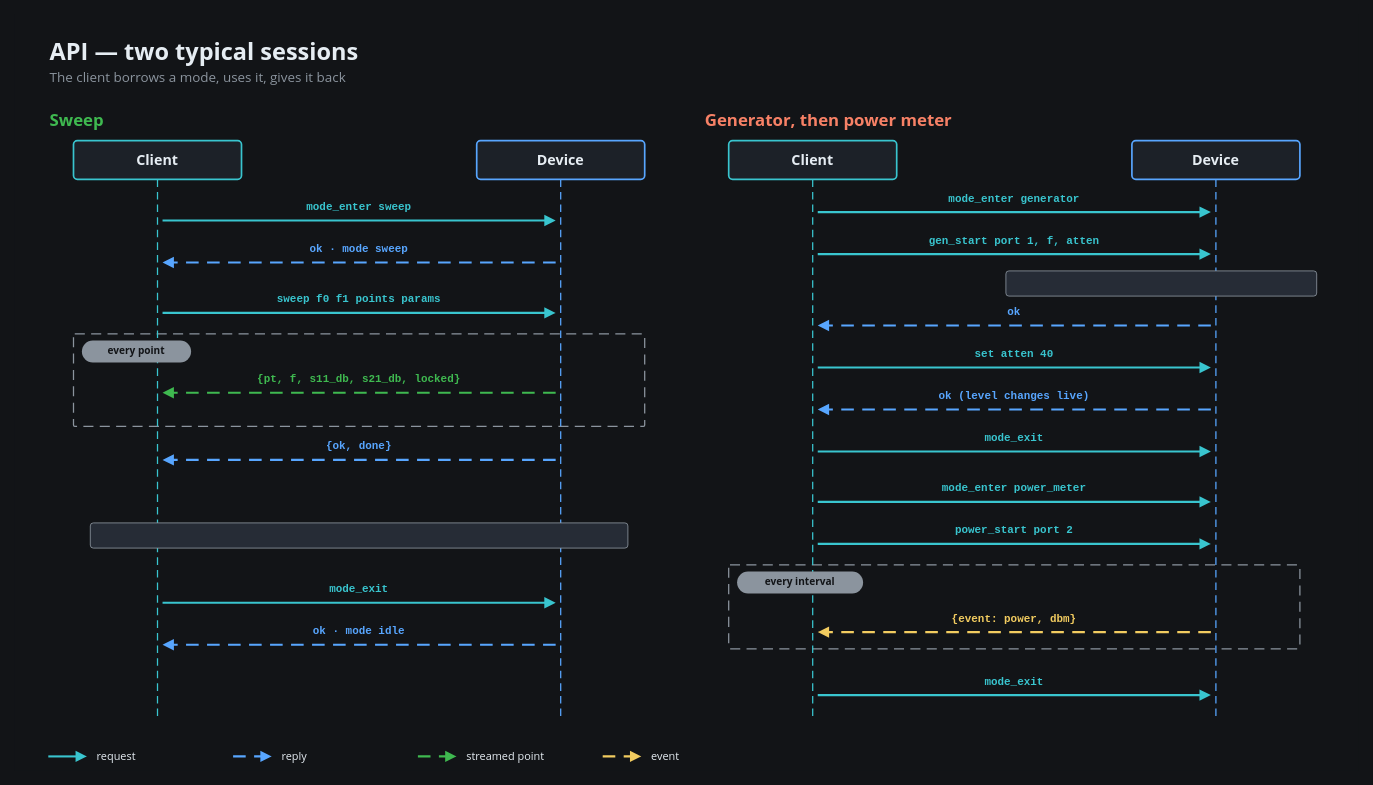
This 1373x785 diagram has some shape labels left out. Each missing label, with the centre of its shape:
"more sweeps … status / set / abort allowed meanwhile" goes at (358,535).
"park → tune → wait lock → route" goes at (1161,283).
